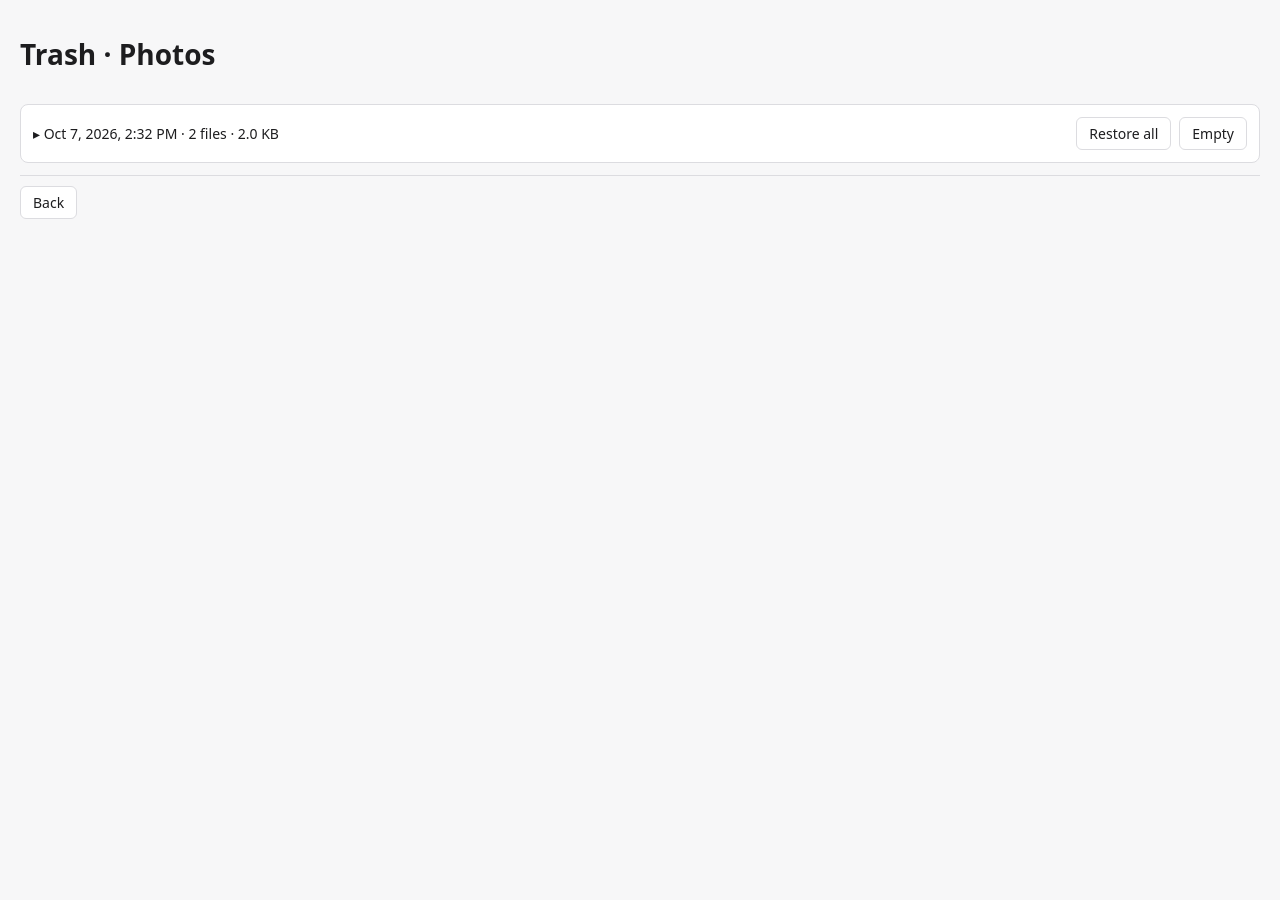
Trash › cancelling the replace dialog restores nothing more
The width and height of the screenshot is (1280, 900).
Step 1. Click the button "Restore all" → x=1124, y=133, box [1076,116,1171,150]
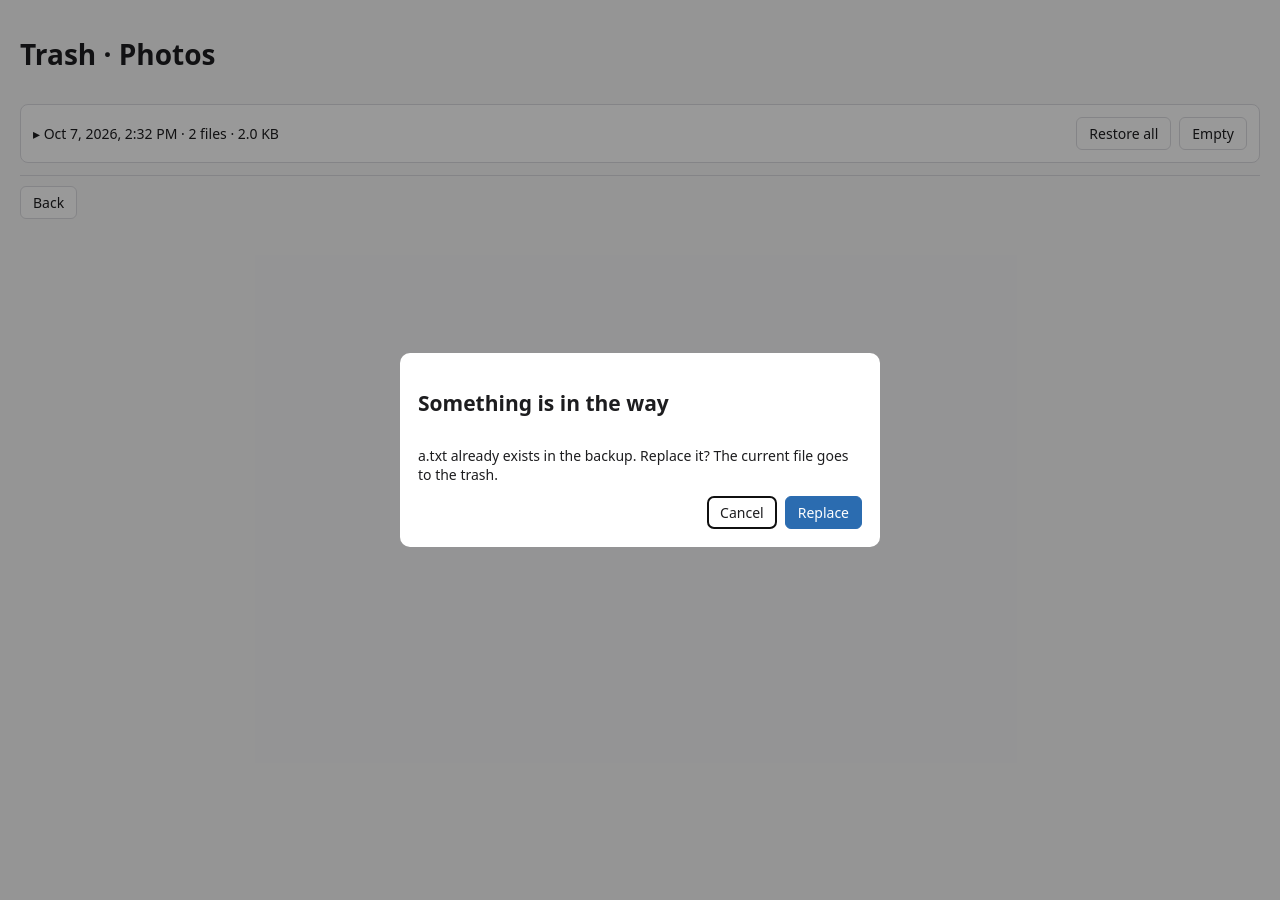
Step 2. Click the button "Cancel" → x=742, y=512, box [707,496,777,529]
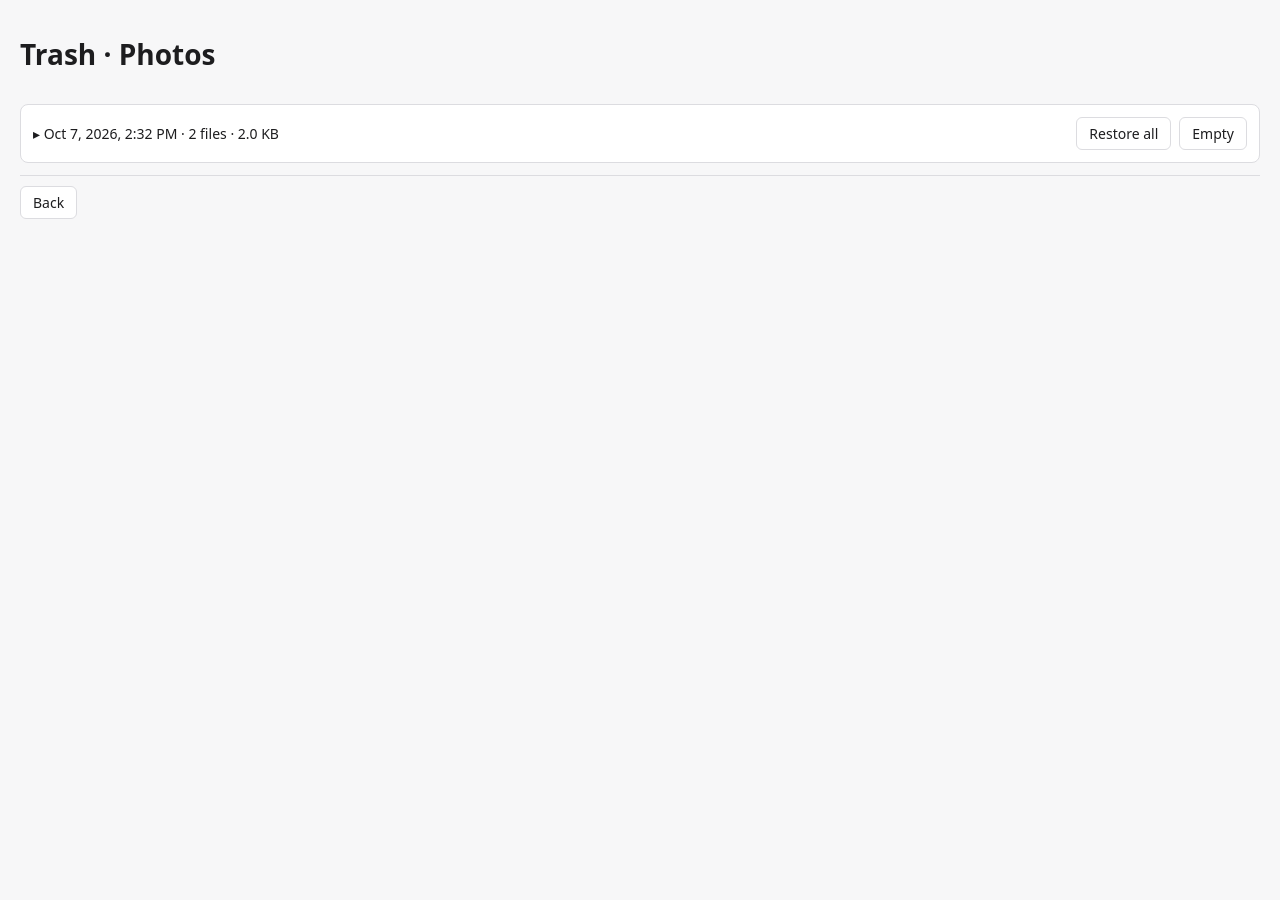
Expected: the dialog is gone
